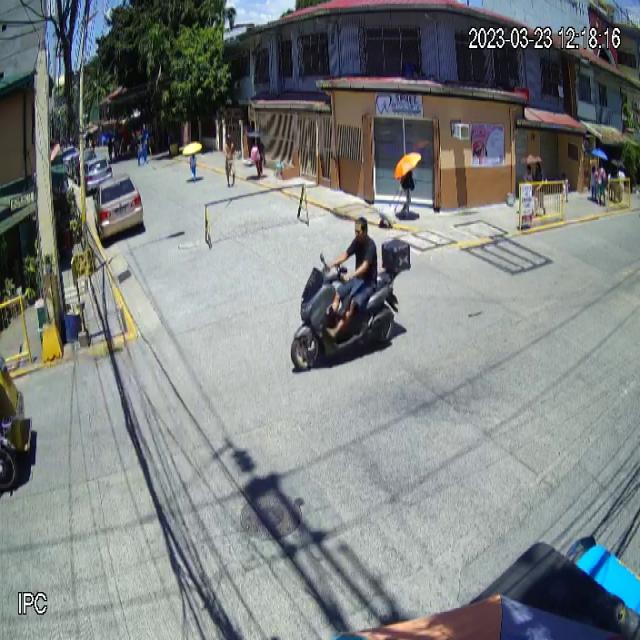Motorcycle: (290, 236, 414, 372)
